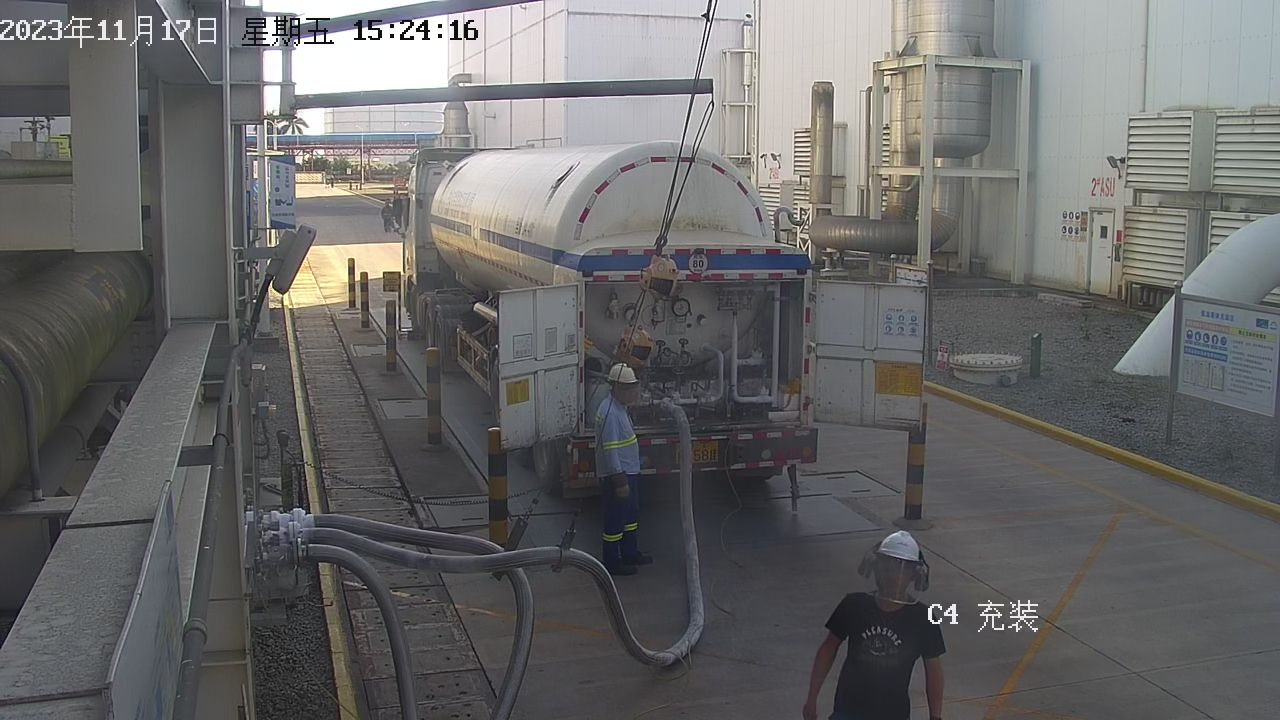Body_without_uniform: (802, 591, 965, 720)
Head_with_Helmet: (823, 516, 965, 623), (571, 355, 667, 409)
Uniform: (557, 397, 700, 591)
